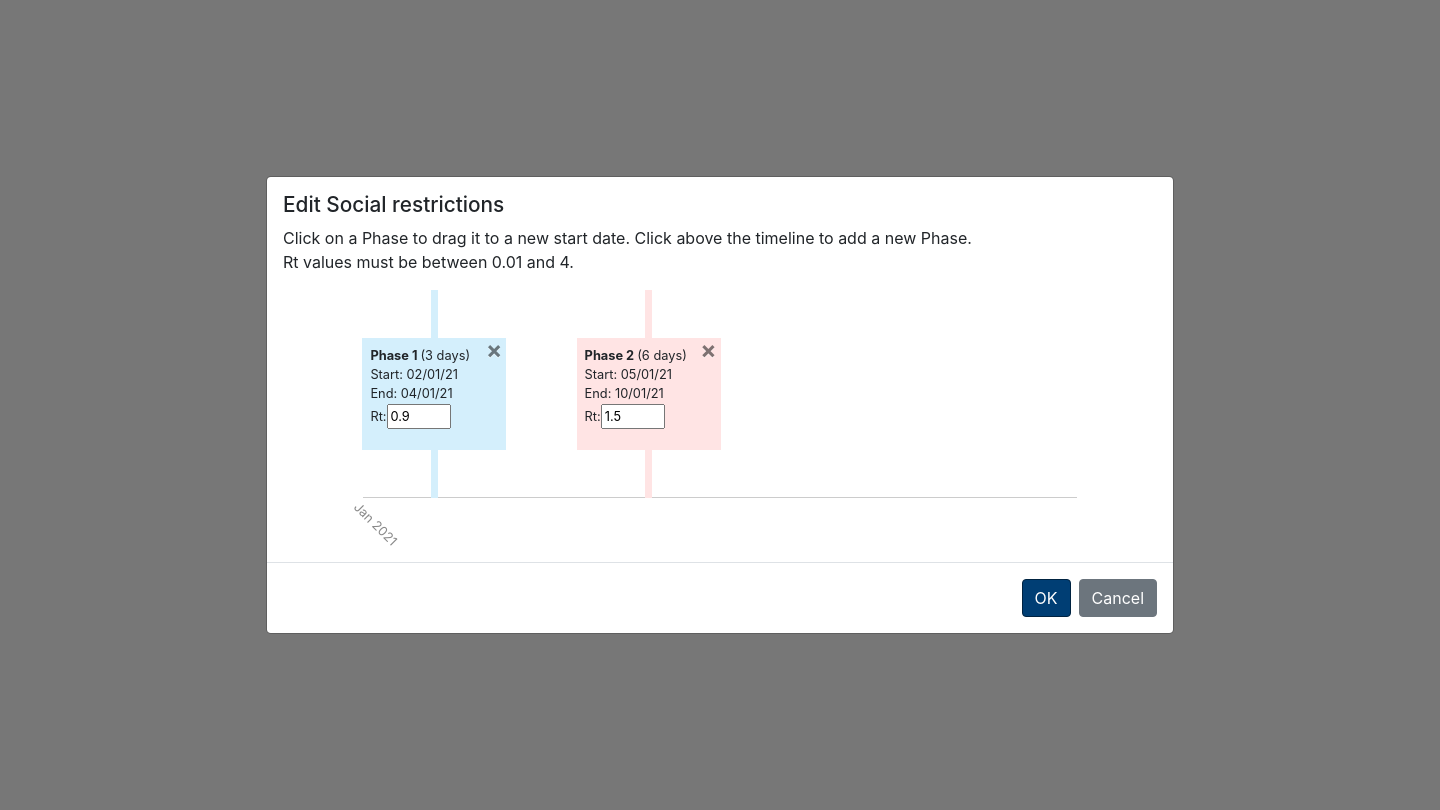
EditPhases › slider value is limited by forecast start
This screenshot has width=1440, height=810.
Press the mouse on the slider with class "slider" that starts with "Phase 1" at (434, 394), box [362, 338, 506, 450]
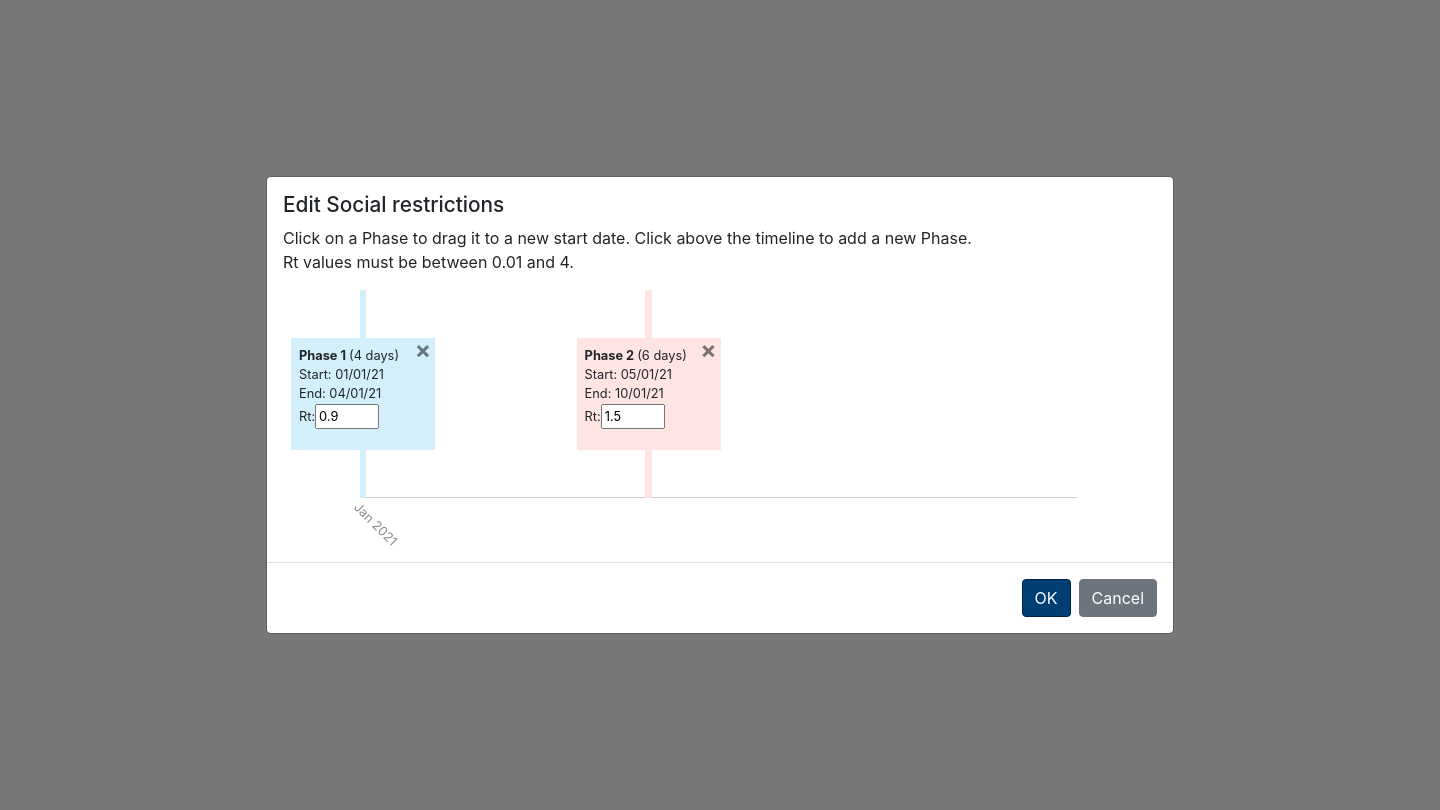
Now the text "Start: 01/01/21" is shown, box [299, 367, 384, 382]
